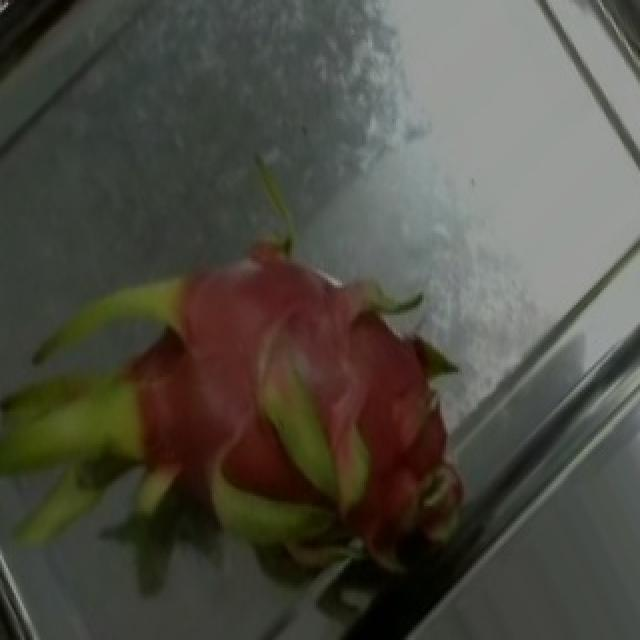fruit: (4, 132, 410, 610)
